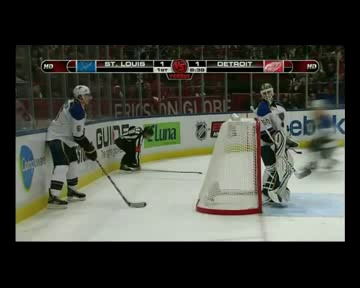normal: (44, 83, 102, 212)
